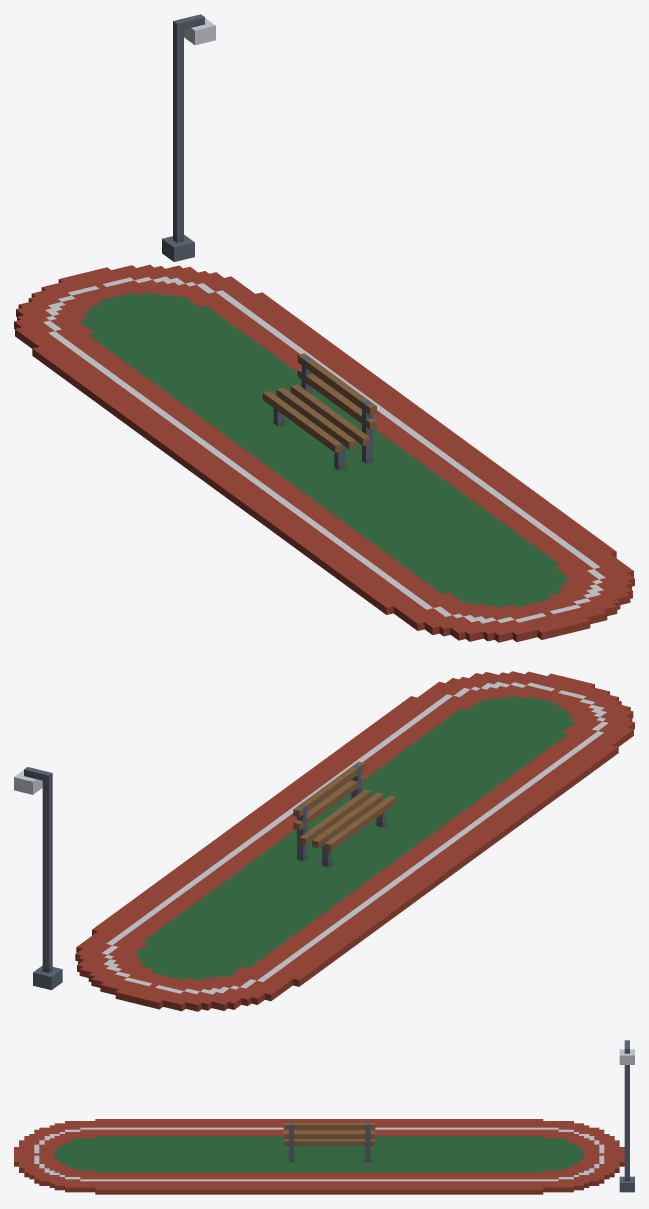
The model's file is training_e3_l2.glb.
3 renders of one model, top to bottom at view 1: azimuth 30°, elevation 25°; view 2: azimuth 150°, elevation 25°; view 3: azimuth 270°, elevation 25°, orthographic. The views are drawn at different scales.
Visible parts, largest first — view 1: Base; view 2: Base; view 3: Base.
Boxes of the visible parts, x1,y1,x2,y2 form: Base: [14, 14, 634, 642]; Base: [14, 671, 634, 1011]; Base: [14, 1040, 634, 1194].
Bounding box in the file's own units: 3.5 × 3.2 × 12.2.
